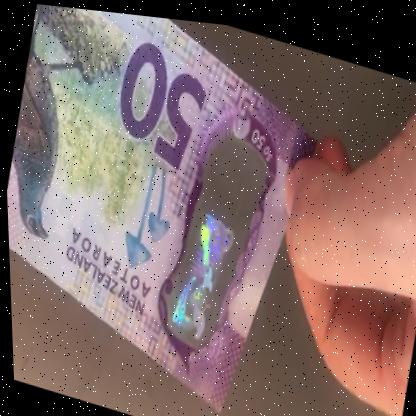50B: (161, 134, 267, 349)
